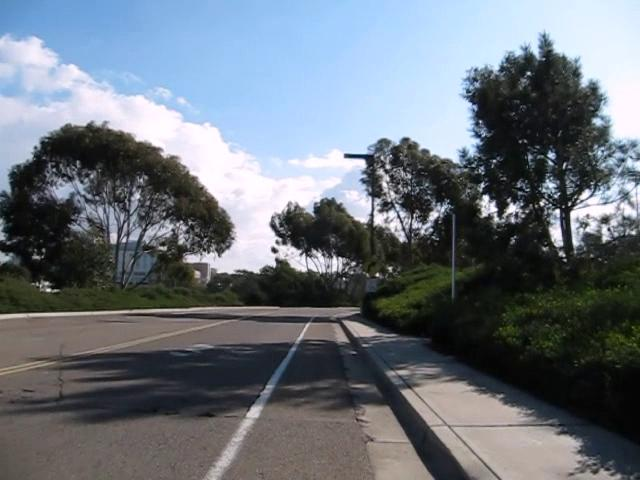speedLimit35: (363, 276, 378, 293)
